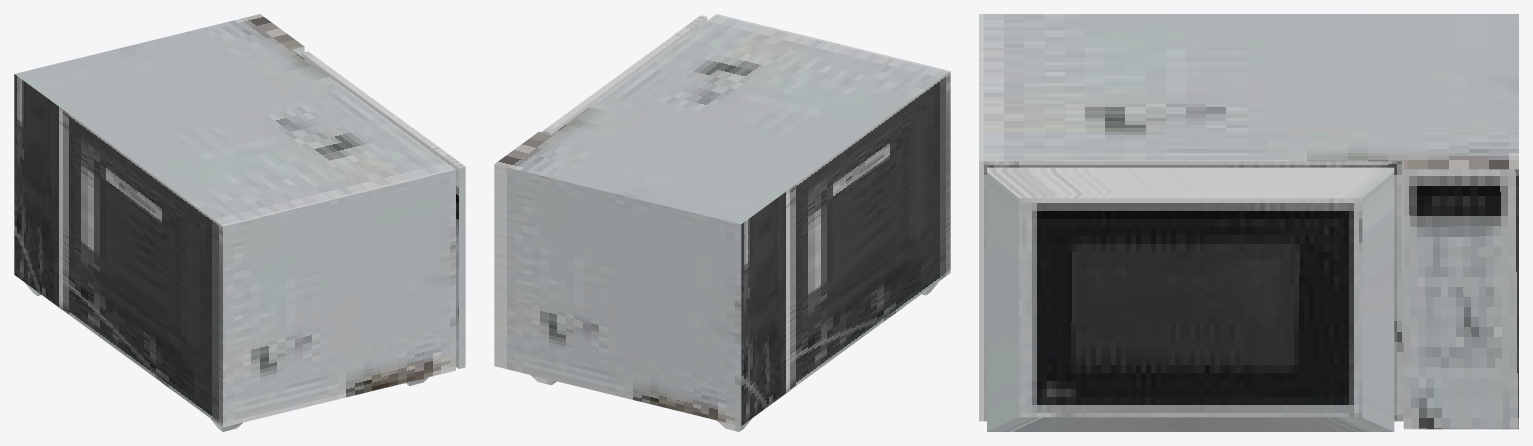
The model's file is microwave.glb.
3 views of the same model, side by side, from view 1: azimuth 30°, elevation 25°; view 2: azimuth 150°, elevation 25°; view 3: azimuth 270°, elevation 25° (orthographic). The views are drawn at different scales.
Parts seen in each view (by area): view 1: Cube_0; view 2: Cube_0; view 3: Cube_0.
Boxes of the visible parts, left/top/right/bottom form: Cube_0: left=14, top=14, right=465, bottom=431; Cube_0: left=494, top=14, right=950, bottom=431; Cube_0: left=979, top=14, right=1518, bottom=431.
Size of the model in its own units: 1.93 by 1.56 by 2.73.
Materials: 1 (1 with a texture image).
